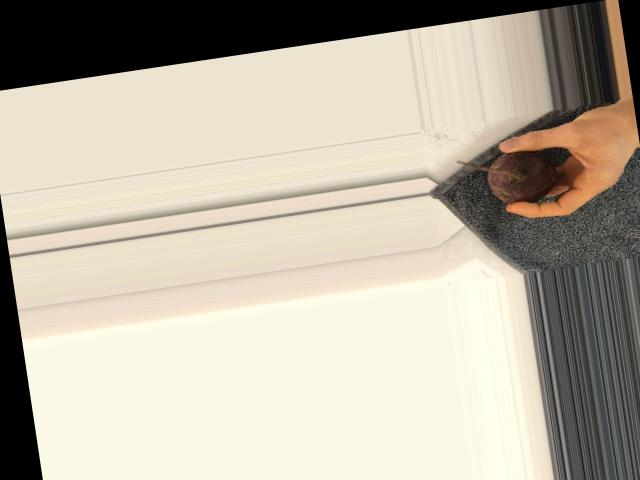beet: (455, 145, 559, 212)
